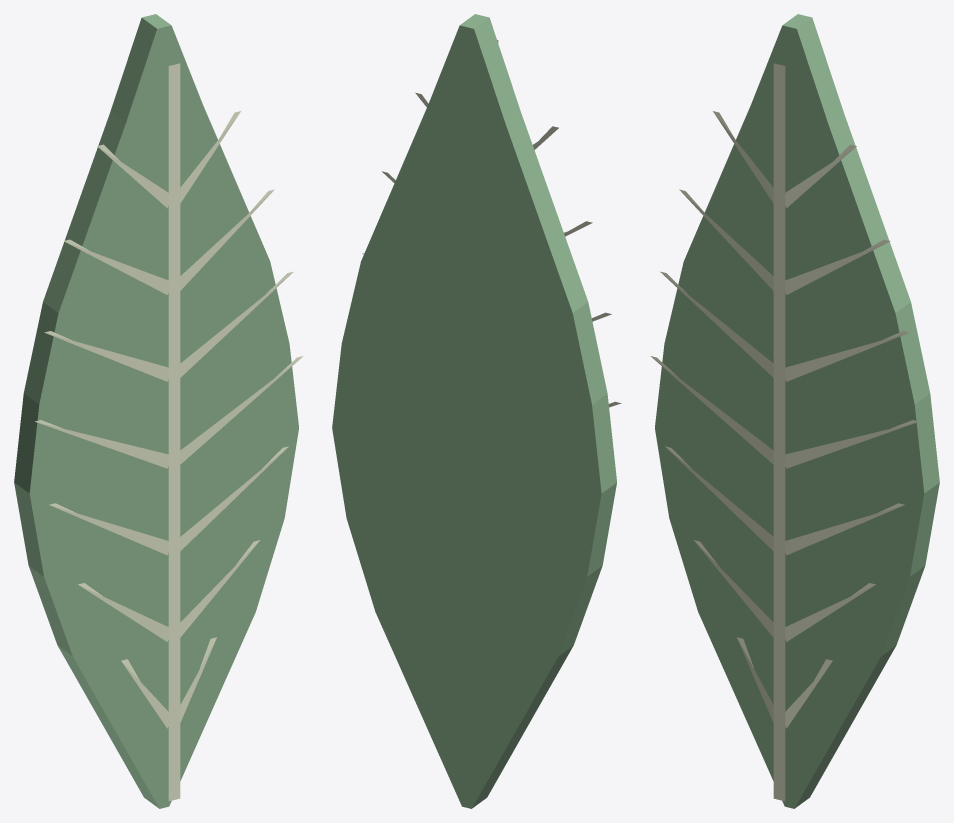
The model's file is rythu-leaf.gltf.
3 renders of one model, left to right at view 1: azimuth 30°, elevation 25°; view 2: azimuth 150°, elevation 25°; view 3: azimuth 330°, elevation 25°, orthographic.
Visible parts, largest first — view 1: Leaf blade, Midrib and veins; view 2: Leaf blade, Midrib and veins; view 3: Leaf blade, Midrib and veins.
Boxes of the visible parts, x1,y1,x2,y2 form: Leaf blade: [14, 14, 298, 808]; Midrib and veins: [35, 63, 303, 801]; Leaf blade: [332, 14, 616, 808]; Midrib and veins: [362, 40, 621, 407]; Leaf blade: [655, 14, 939, 808]; Midrib and veins: [650, 63, 918, 801].
Size of the model in its own units: 0.56 by 1.55 by 0.092.
